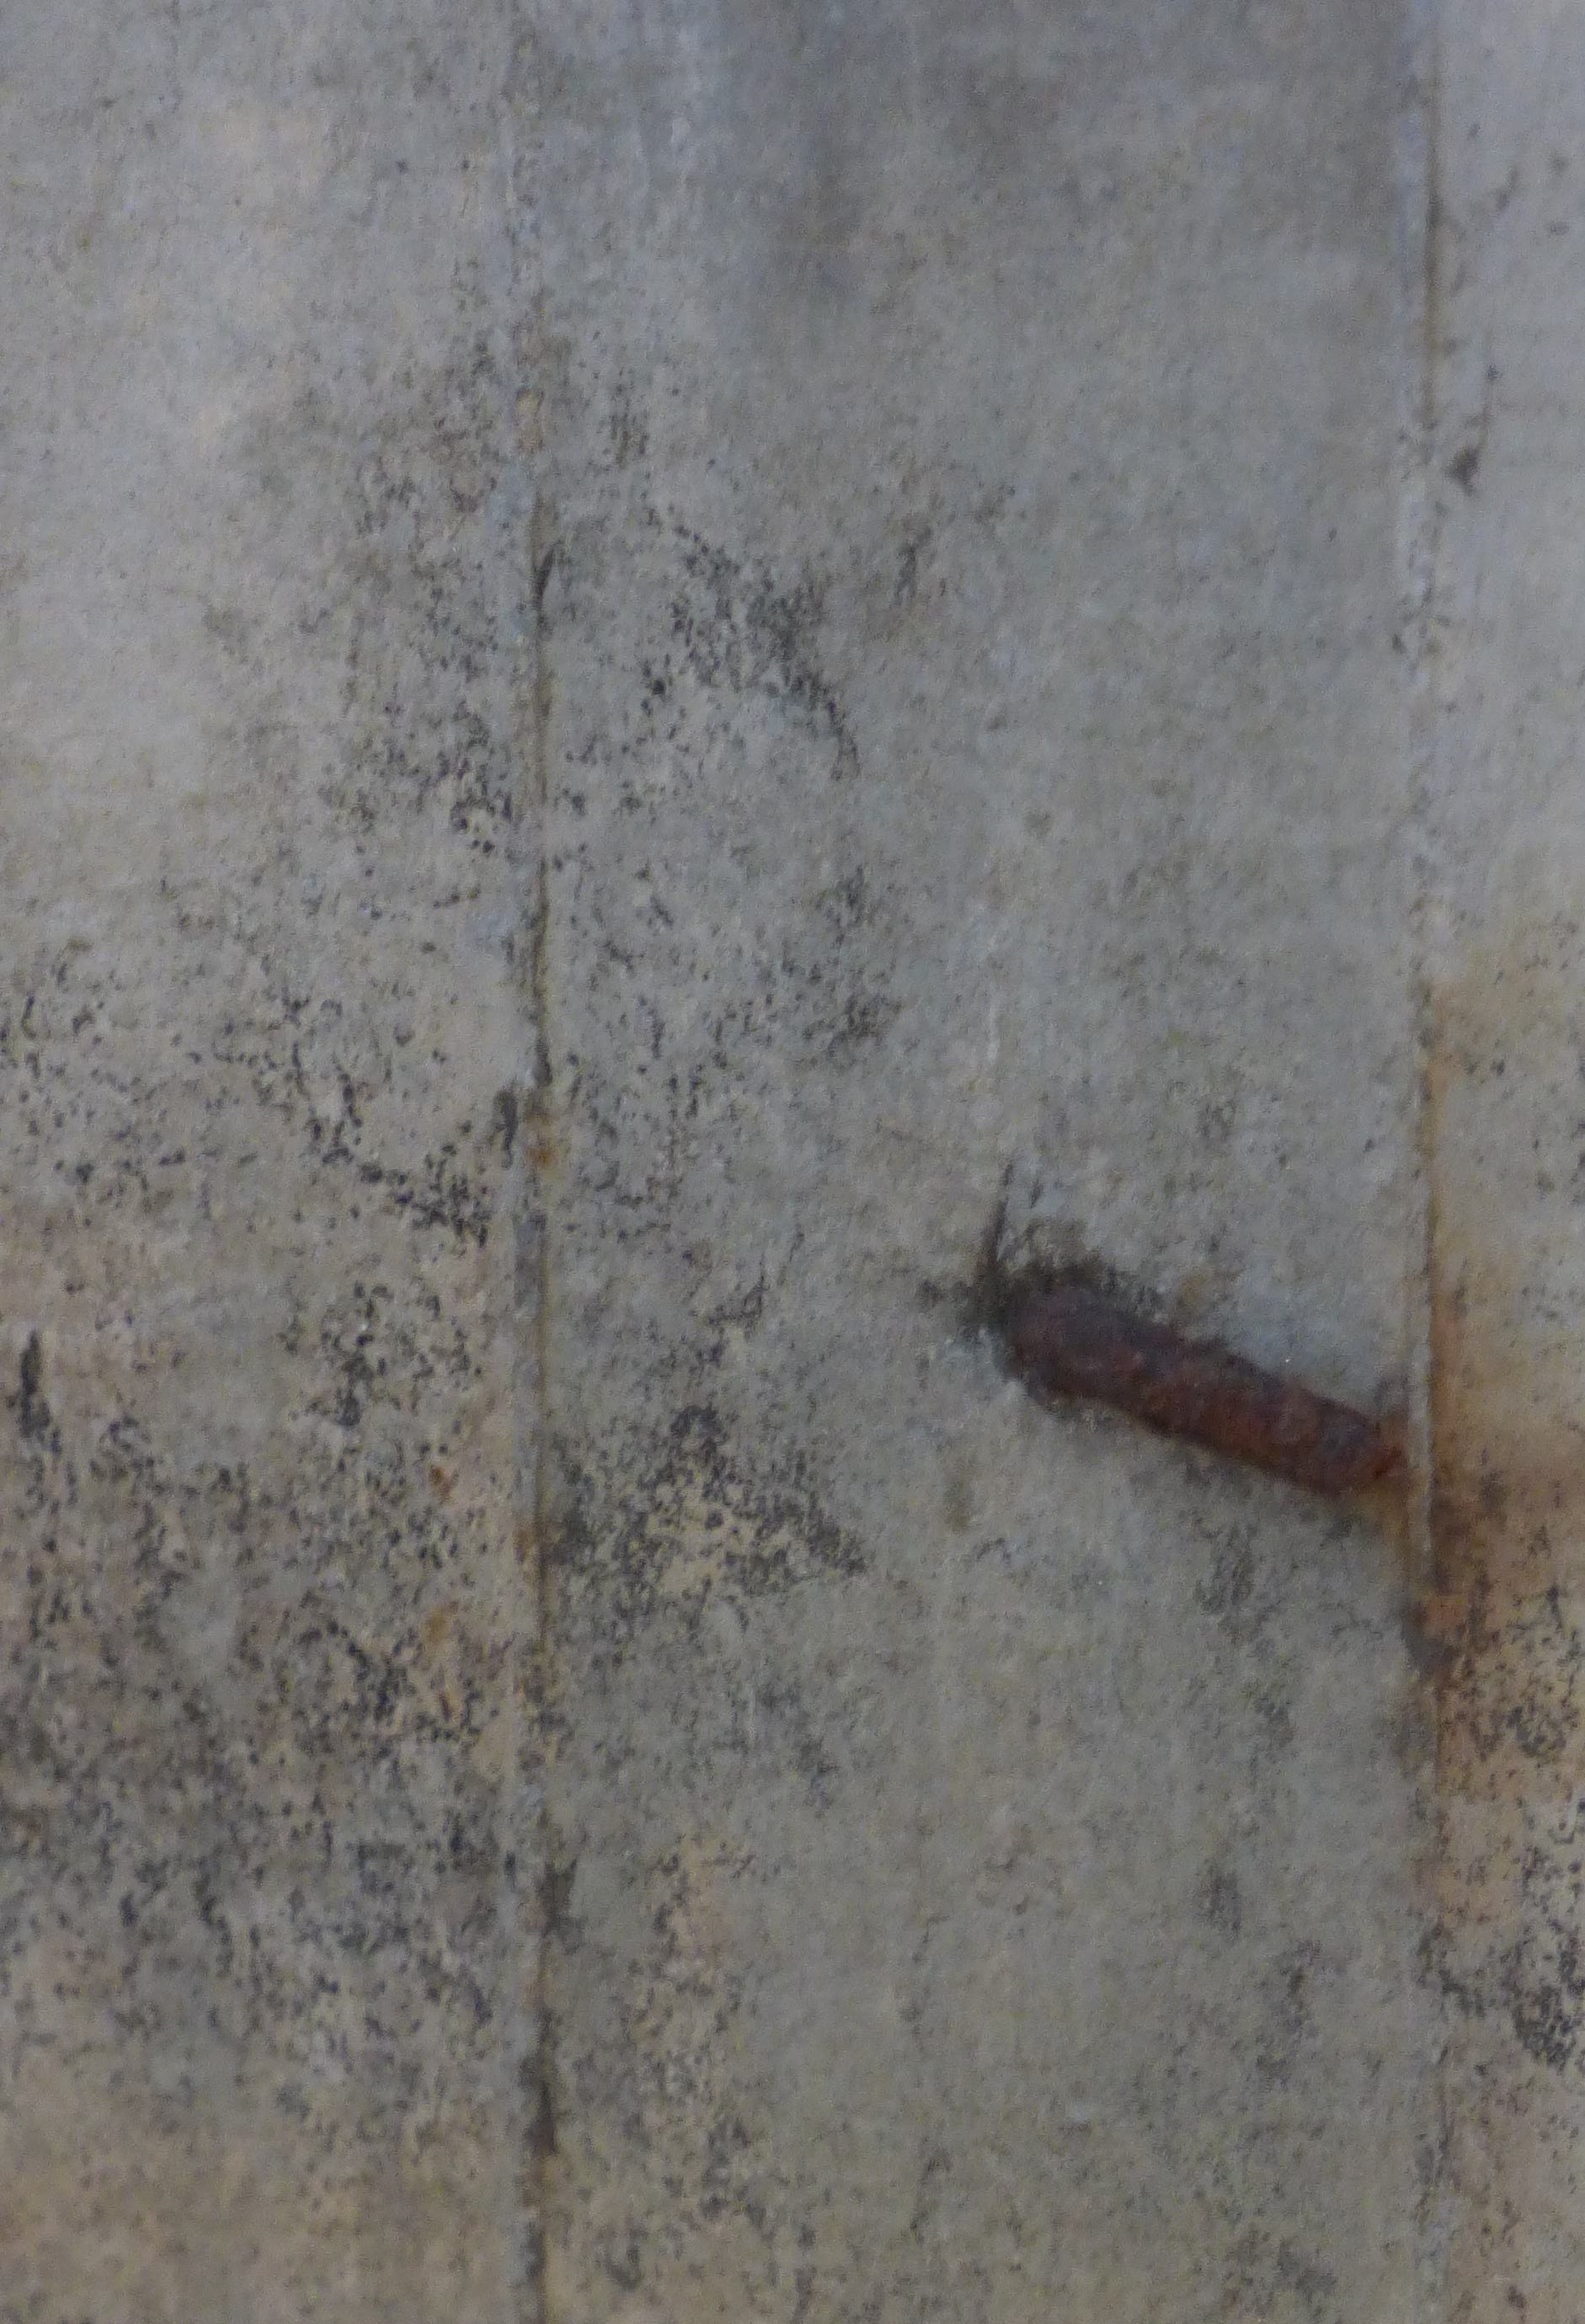Exposed reinforcement: (1011, 1284, 1391, 1498)
